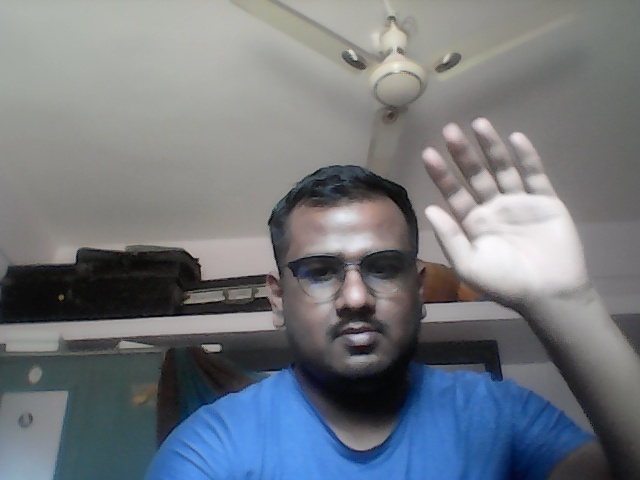Hello: (418, 111, 597, 298)
